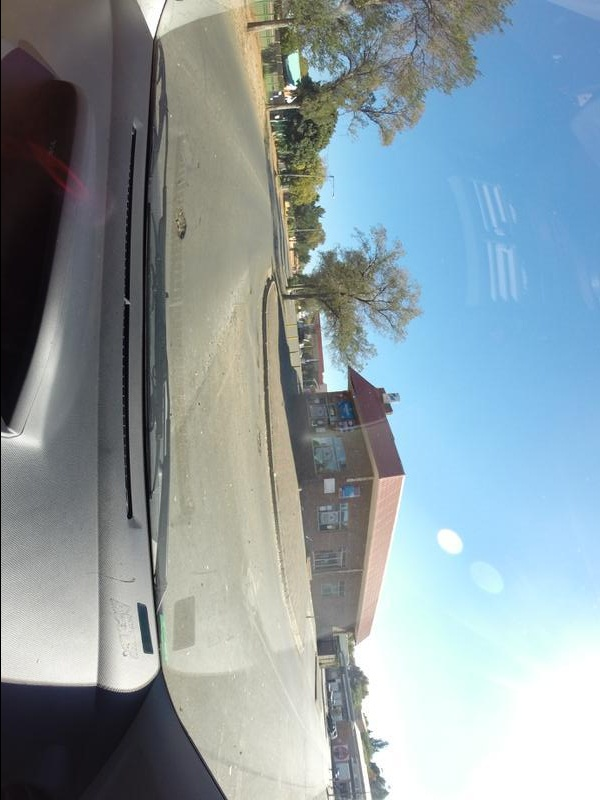pothole: (176, 208, 190, 246)
